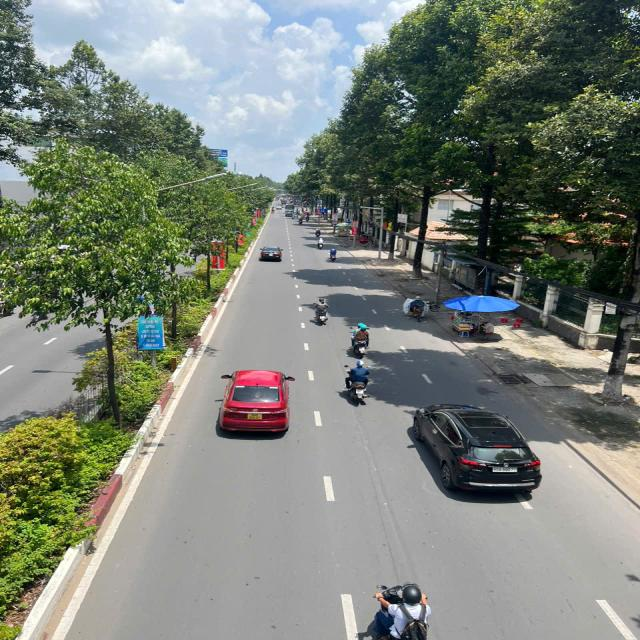car: (405, 400, 553, 499), (214, 365, 298, 445), (256, 239, 288, 266)
motobyte: (370, 575, 434, 640), (338, 357, 374, 410), (347, 316, 375, 360), (306, 292, 334, 329), (324, 244, 342, 266), (314, 236, 326, 250)
